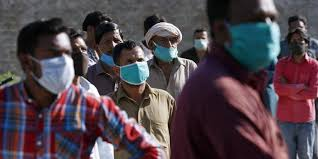mask: (227, 1, 283, 69), (23, 28, 74, 97), (116, 45, 149, 87), (94, 30, 122, 69), (68, 34, 93, 76), (152, 34, 178, 61), (288, 31, 307, 53), (191, 30, 208, 52)
